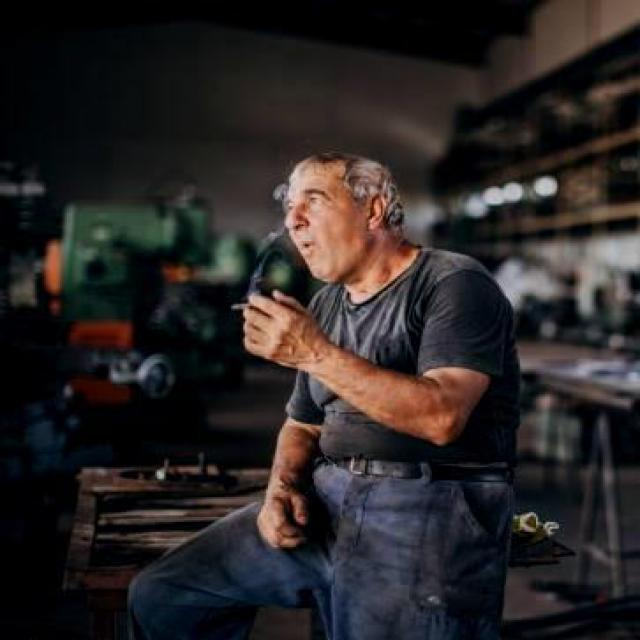smoke: (227, 284, 298, 332)
